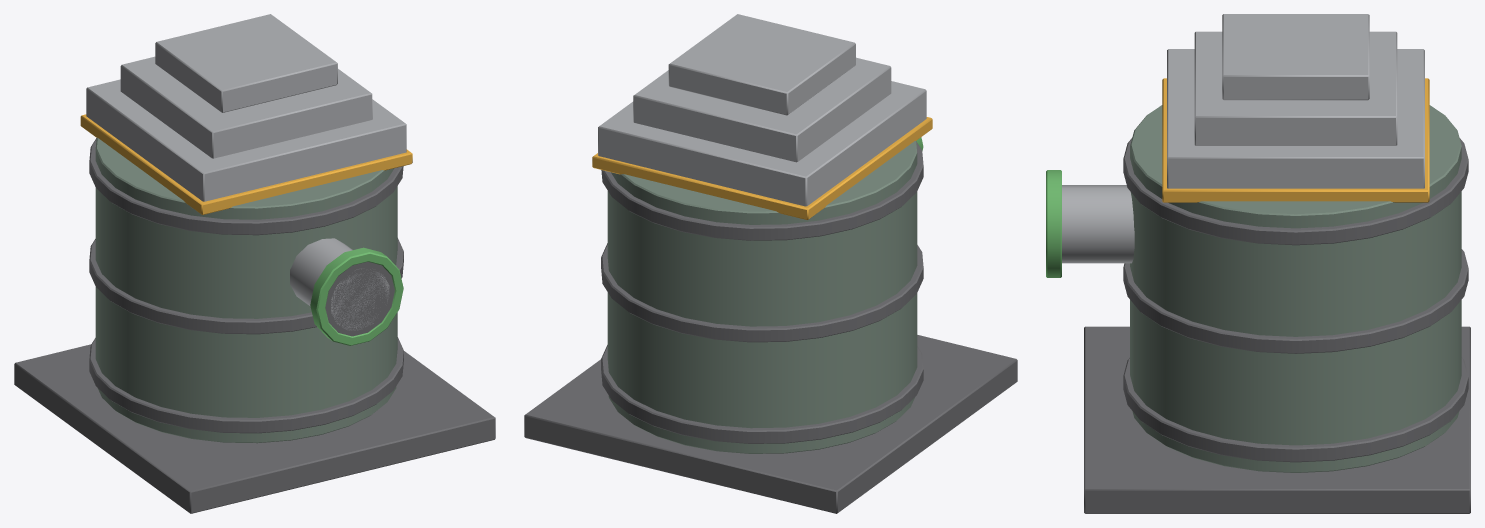
Rendered from feFluidFiller.fbx.
3 views of the same model, side by side, from view 1: azimuth 30°, elevation 25°; view 2: azimuth 150°, elevation 25°; view 3: azimuth 270°, elevation 25° (orthographic). The views are drawn at different scales.
Visible parts, largest first — view 1: feFluidFiller_Base; view 2: feFluidFiller_Base; view 3: feFluidFiller_Base.
Part boxes in pixels (x1,y1,x2,y2): feFluidFiller_Base: (14, 14, 495, 513); feFluidFiller_Base: (524, 14, 1017, 513); feFluidFiller_Base: (1046, 14, 1470, 513).
Bounding box in the file's own units: 0.84 × 0.93 × 0.9225.
